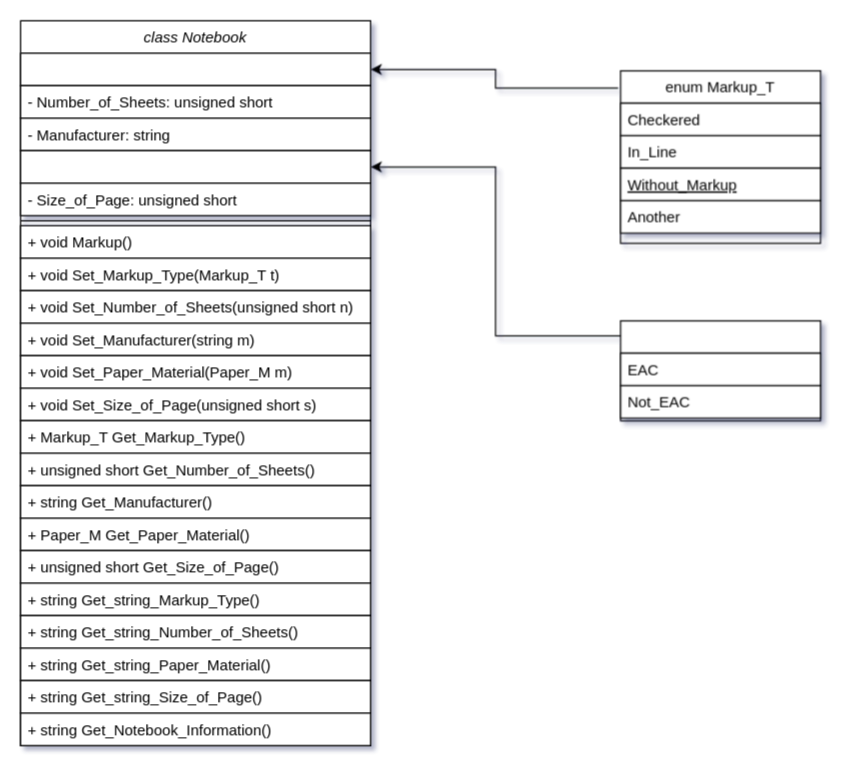
This 841x766 diagram has some shape labels left out. The shapes that lost their labels are listed below. From the top down, each one's box as (x1, y1, x2, y2) in pixels, then its label:
(19, 52, 371, 86): - Markup_Type: Markup_T
(19, 149, 371, 183): - Paper_Material: Paper_M
(619, 319, 821, 421): enum Paper_M
